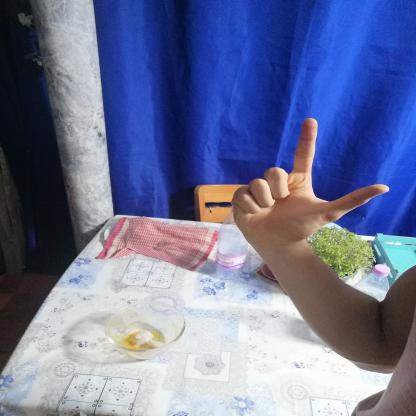LAAM: (220, 110, 403, 258)
